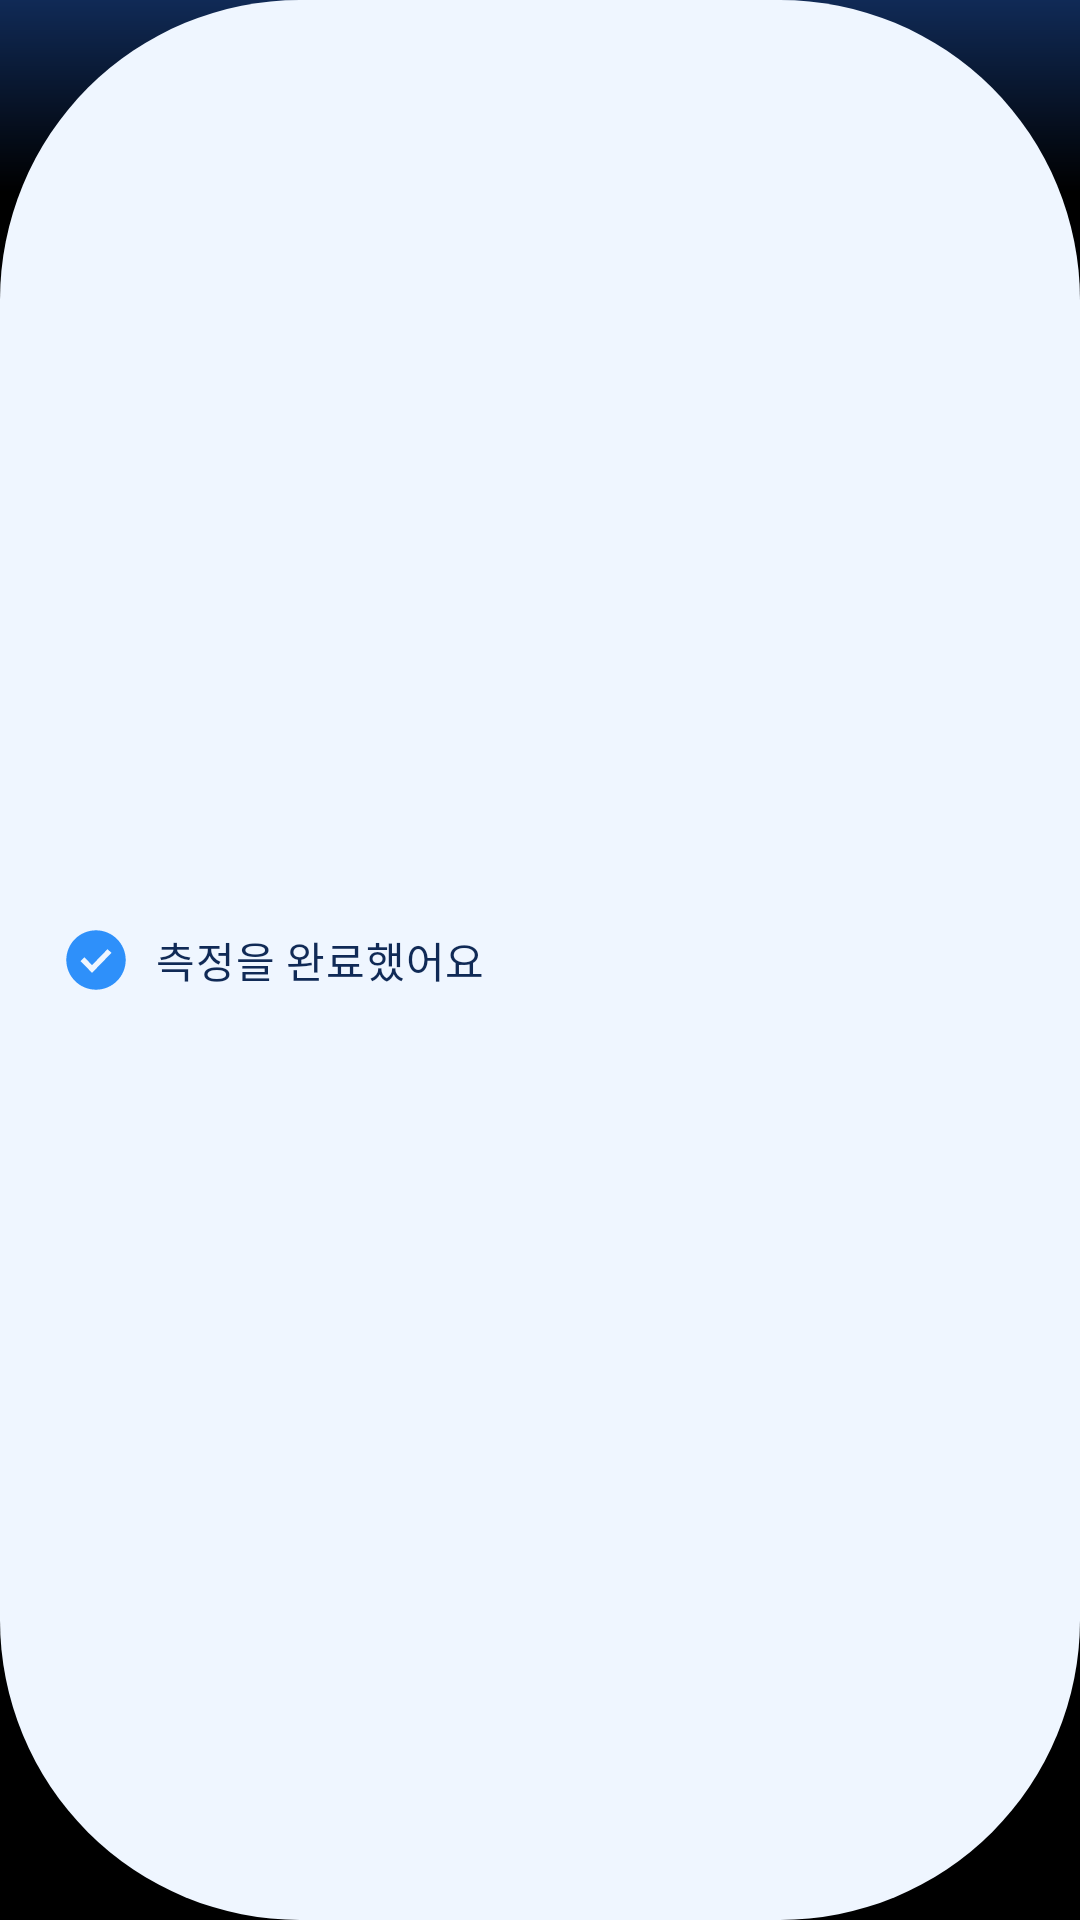

Icon bounding boxes for this 1080w x 1920h phone screenshot, format (x1, y1, x2, y2):
check: (66, 930, 126, 990)
